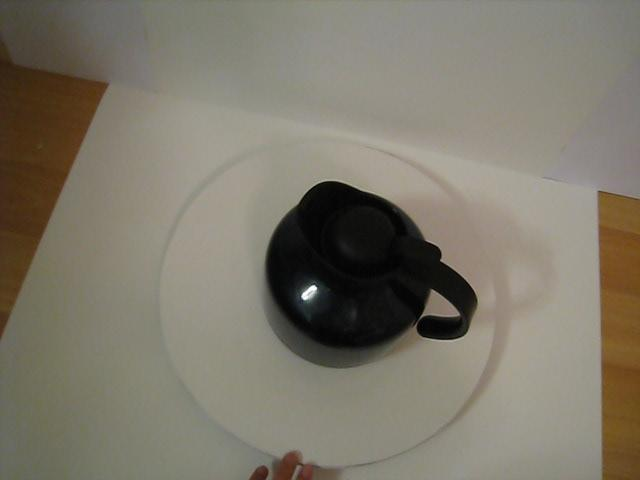pitcher: (248, 176, 490, 384)
